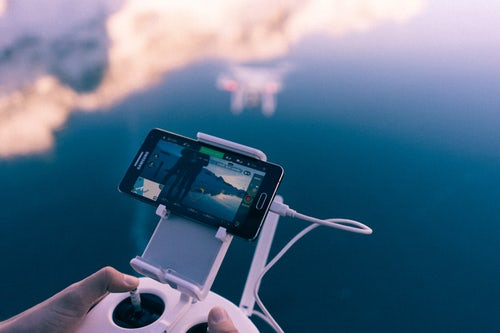phone: (113, 124, 290, 237)
